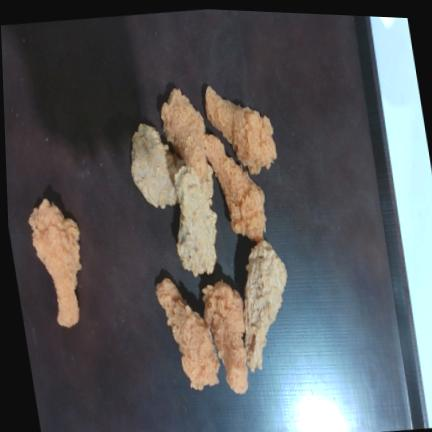chicken: (156, 278, 219, 389), (29, 198, 81, 326), (205, 134, 266, 241), (205, 85, 276, 173), (243, 240, 287, 371), (202, 280, 248, 392), (161, 88, 208, 184), (175, 166, 216, 276), (131, 123, 182, 207)
